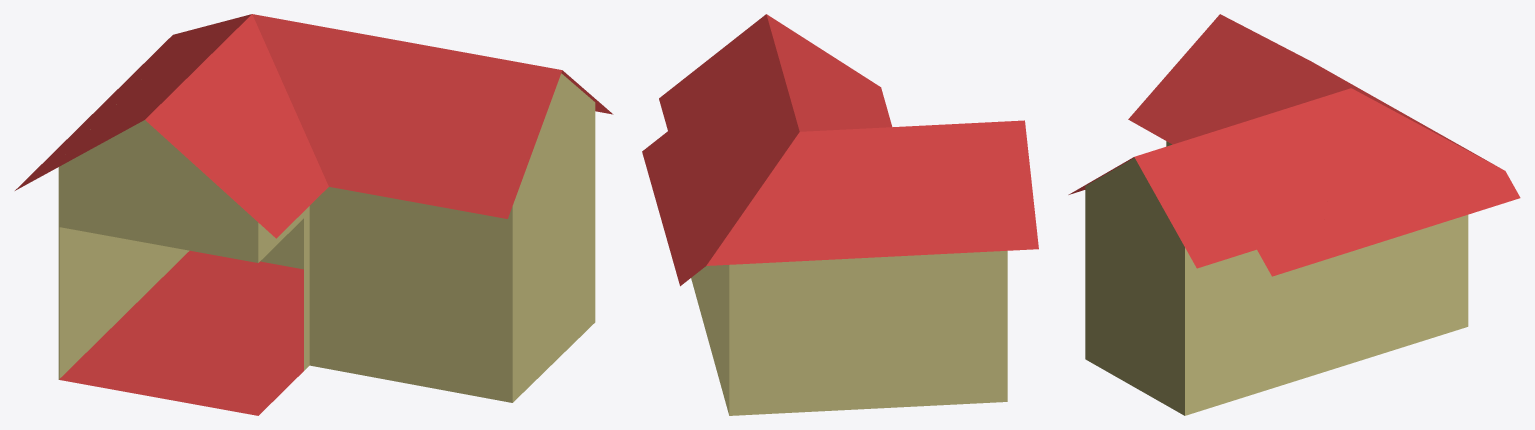
3 renders of one model, left to right at view 1: azimuth 30°, elevation 25°; view 2: azimuth 150°, elevation 25°; view 3: azimuth 270°, elevation 25°, orthographic. The views are drawn at different scales.
Size of the model in its own units: 27.01 by 24.98 by 14.23.
